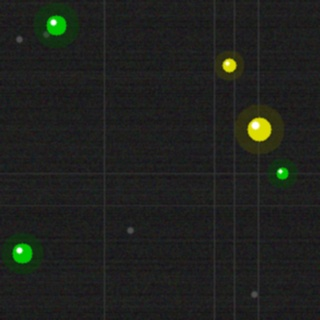green_normal: (10, 241, 34, 265), (44, 13, 68, 37), (274, 165, 290, 181)
yellow_warning: (245, 115, 273, 143), (220, 56, 238, 74)
